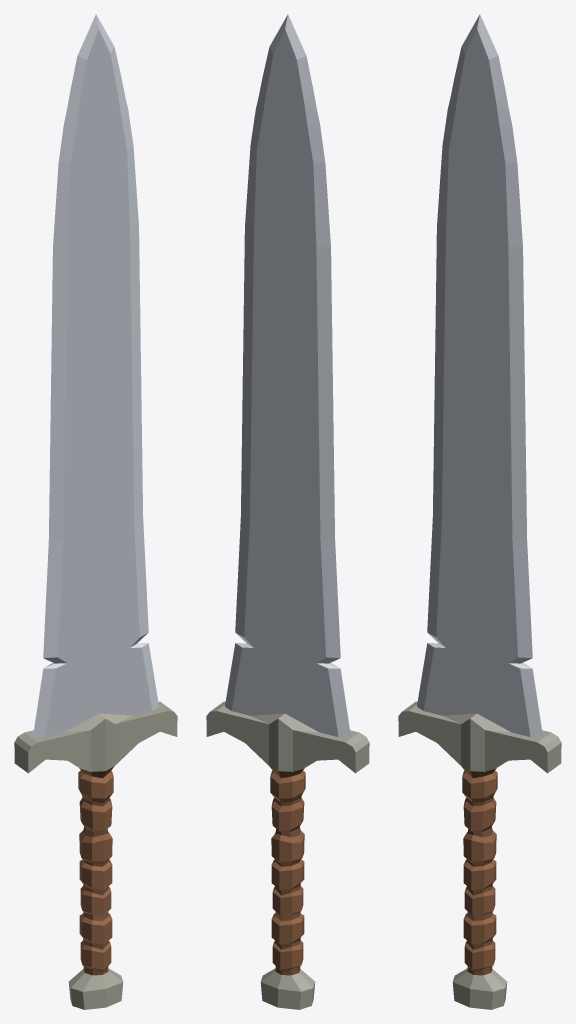
The model's file is Q_Sword_Big-DbNZ3G2Z.glb.
The picture shows the model from 3 angles, left to right: view 1: azimuth 30°, elevation 25°; view 2: azimuth 150°, elevation 25°; view 3: azimuth 330°, elevation 25°; orthographic projection.
Parts seen in each view (by area): view 1: Sword_Big; view 2: Sword_Big; view 3: Sword_Big.
Part boxes in pixels (<box>): Sword_Big: <box>14,14,177,1009</box>; Sword_Big: <box>206,14,369,1009</box>; Sword_Big: <box>398,14,561,1009</box>.
Size of the model in its own units: 1.02 by 6.44 by 0.2386.
